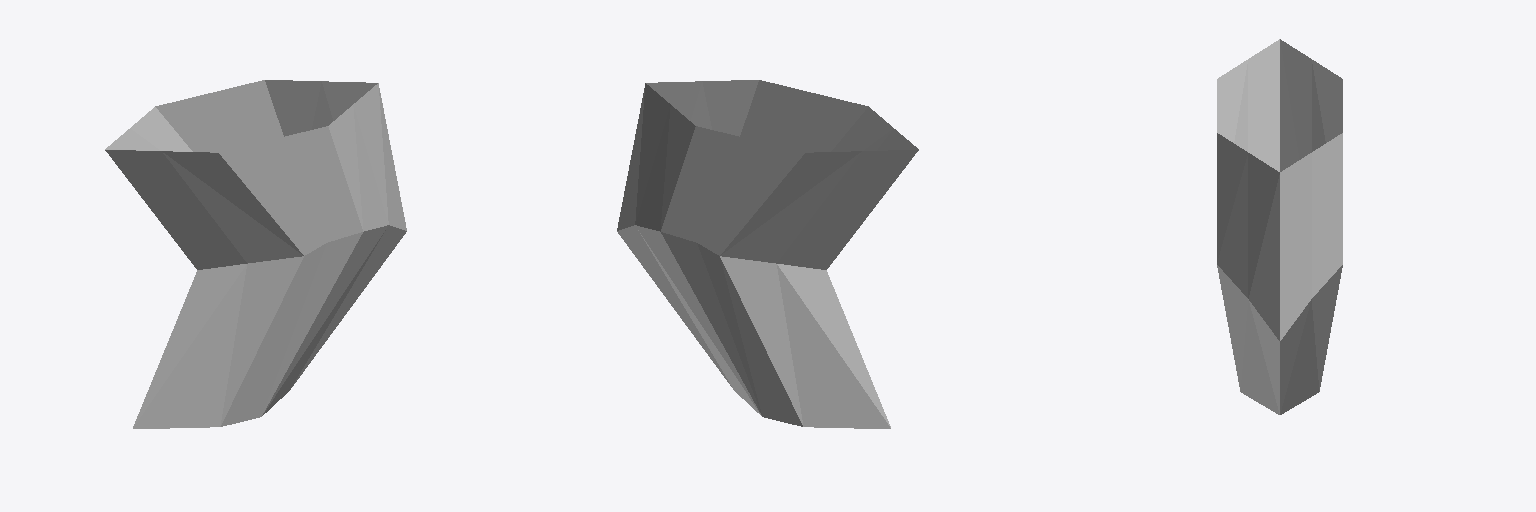
The model's file is rhodium_leg_mid.obj.
The picture shows the model from 3 angles: view 1: azimuth 30°, elevation 25°; view 2: azimuth 150°, elevation 25°; view 3: azimuth 270°, elevation 25°; orthographic projection.
Parts seen in each view (by area): view 1: RhodiumLegMid; view 2: RhodiumLegMid; view 3: RhodiumLegMid.
Part boxes in pixels (left/top/right/bottom): RhodiumLegMid: left=105, top=80, right=406, bottom=428; RhodiumLegMid: left=617, top=80, right=918, bottom=428; RhodiumLegMid: left=1217, top=39, right=1342, bottom=414.
Bounding box in the file's own units: 2.21 × 2 × 0.8.